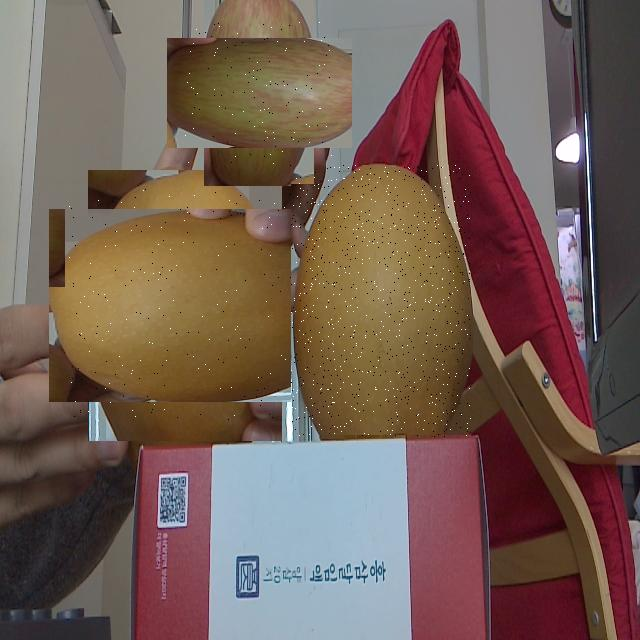apple: (185, 19, 333, 167)
pear: (69, 189, 301, 422), (291, 165, 471, 438)
